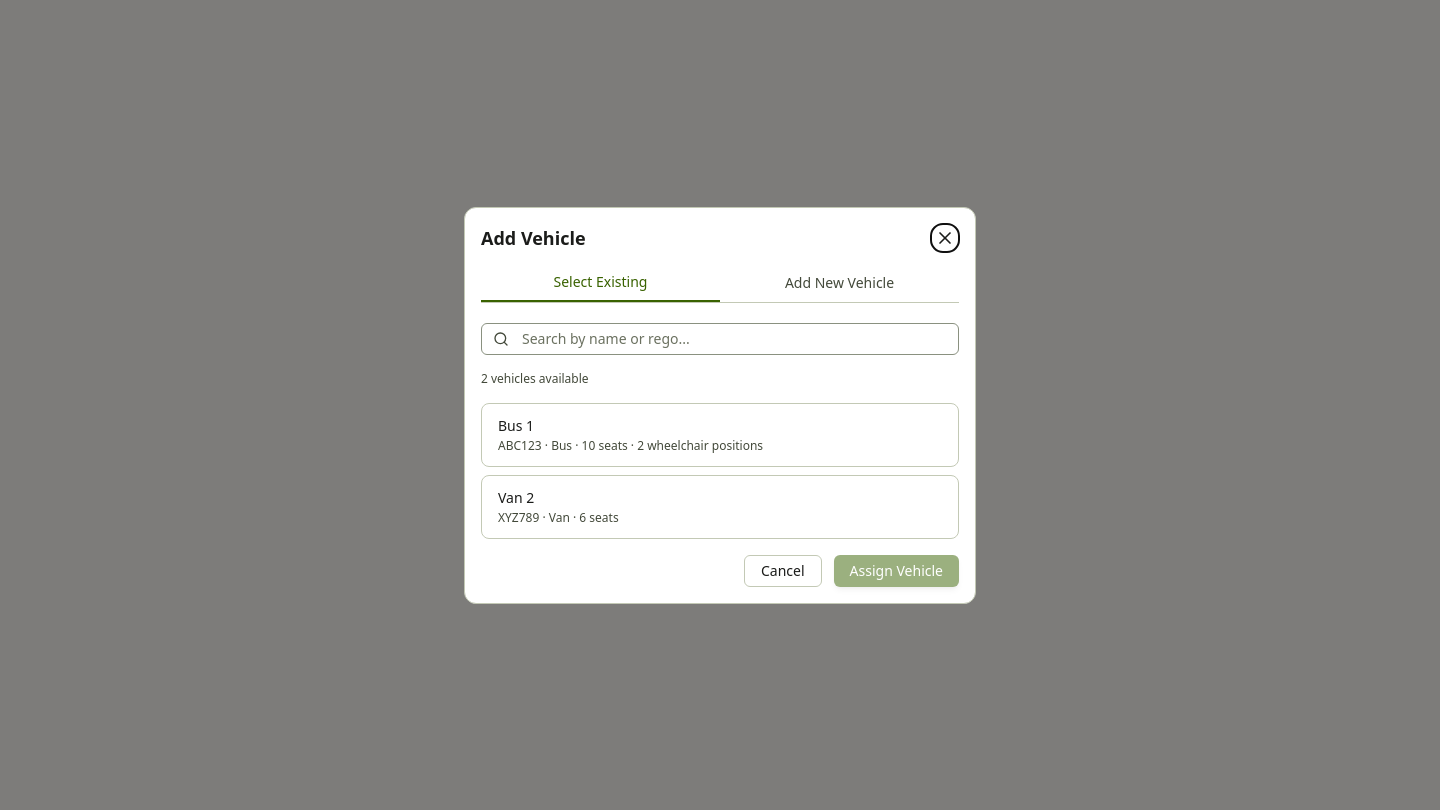
Test: AddVehicleModal — Select Existing live conflict gate (trip-side parity) › disables the submit button and shows the blocking alert when a finding is Blocking
Click the text "Bus 1". click: coordinates (516, 425)
box: [498, 416, 534, 434]
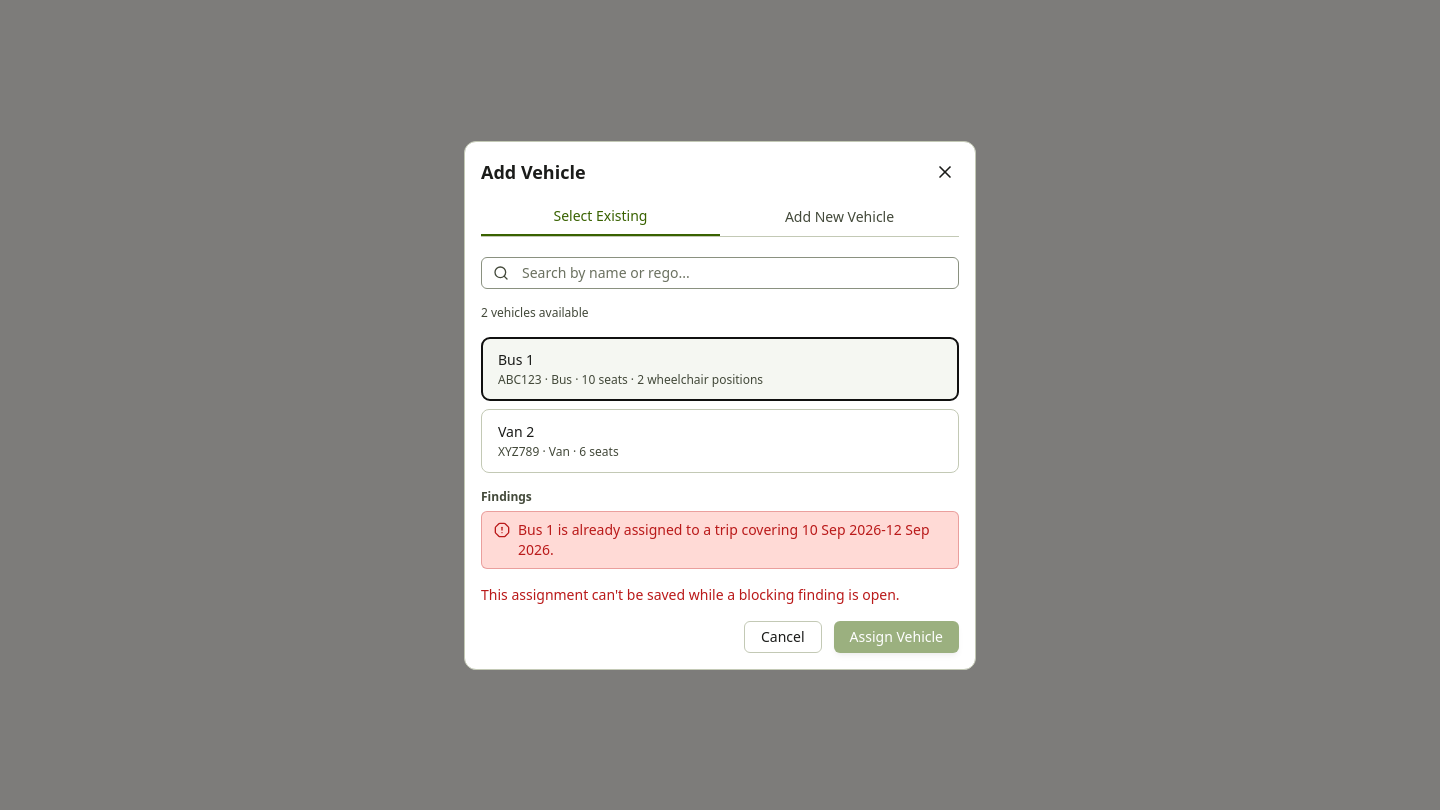
Expected: the button "Assign Vehicle" is disabled, [834, 620, 959, 652]
Now the text "already assigned to a trip covering" is shown, box [518, 520, 930, 558]
Now the message shows "can't be saved while a blocking finding is open", box [481, 584, 900, 604]
